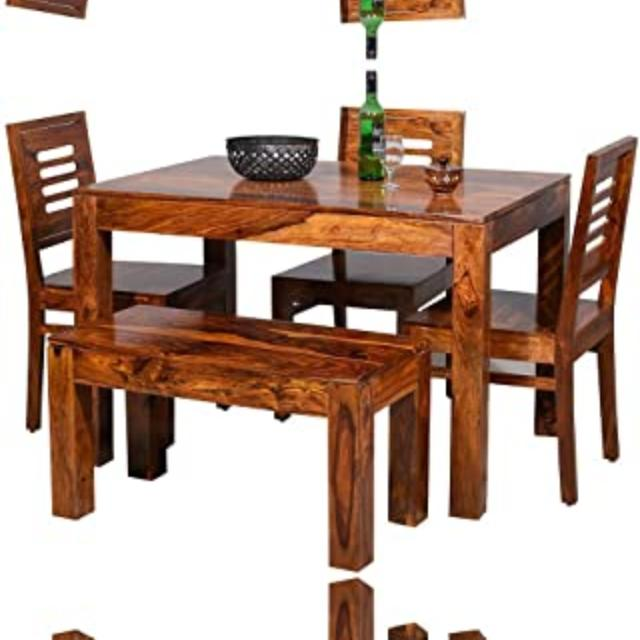obstacle: (36, 284, 452, 546), (518, 108, 640, 552), (36, 604, 451, 640), (518, 598, 640, 640), (518, 0, 640, 22)
